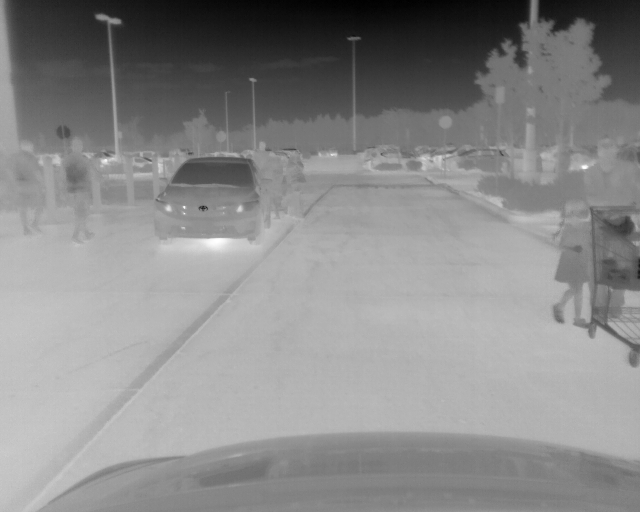car: (153, 157, 265, 247), (444, 148, 510, 173), (373, 149, 433, 171), (320, 148, 338, 156)
people: (582, 135, 637, 321), (551, 200, 593, 331), (61, 138, 97, 247), (11, 141, 47, 235), (252, 138, 282, 223), (287, 151, 305, 222), (550, 137, 577, 179), (273, 164, 281, 223), (533, 148, 543, 186)
